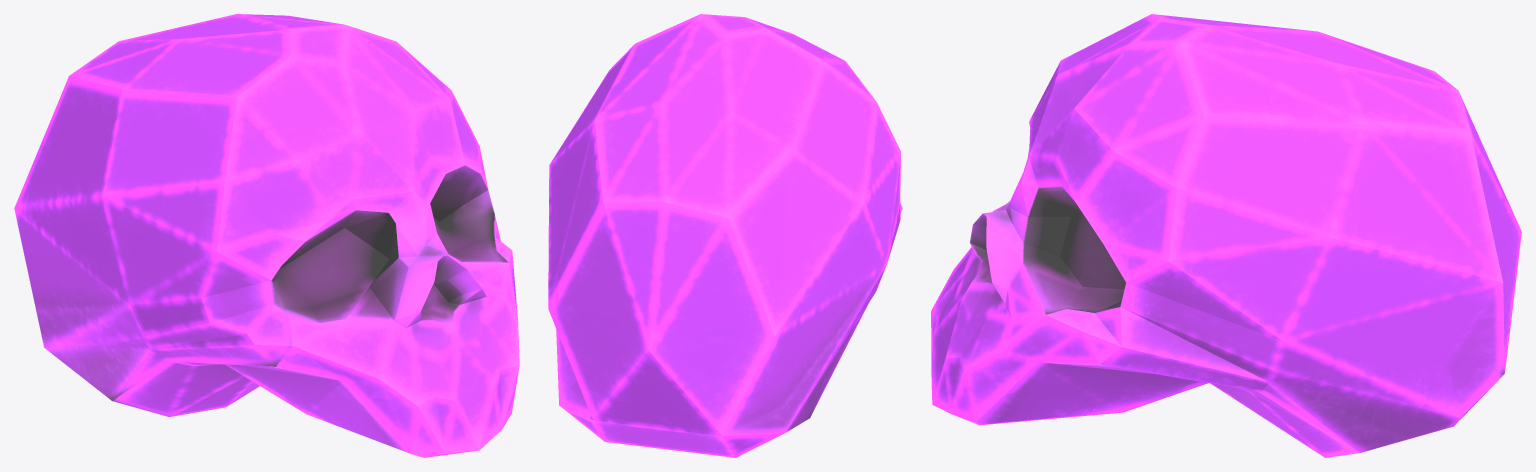
Rendered from CrystalSkull.glb.
The picture shows the model from 3 angles, left to right: view 1: azimuth 30°, elevation 25°; view 2: azimuth 150°, elevation 25°; view 3: azimuth 270°, elevation 25°; orthographic projection. The views are drawn at different scales.
Parts seen in each view (by area): view 1: Cube.068; view 2: Cube.068; view 3: Cube.068.
Boxes of the visible parts, <box> form: Cube.068: <box>14,14,519,457</box>; Cube.068: <box>548,14,902,457</box>; Cube.068: <box>931,14,1521,457</box>.
Bounding box in the file's own units: 6.93 × 7.95 × 9.99.
1 material, 1 textured.
